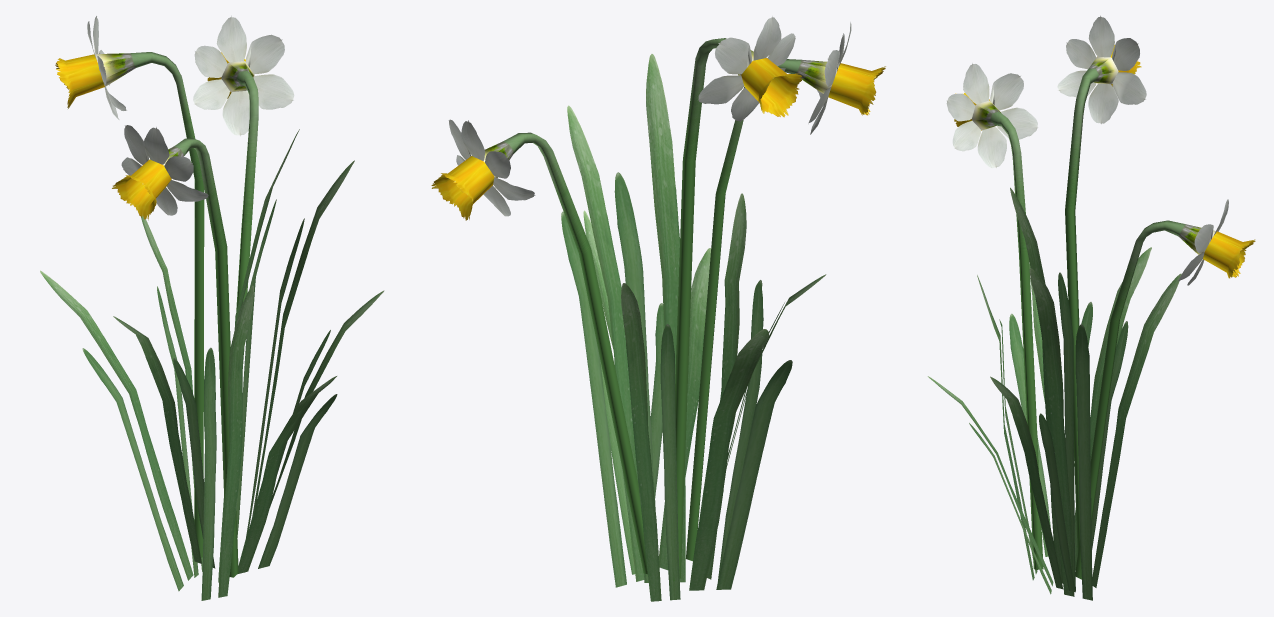
The model's file is Narcissus2B.fbx.
3 renders of one model, left to right at view 1: azimuth 30°, elevation 25°; view 2: azimuth 150°, elevation 25°; view 3: azimuth 270°, elevation 25°, orthographic. The views are drawn at different scales.
Parts seen in each view (by area): view 1: Narcissus2B_LOD0; view 2: Narcissus2B_LOD0; view 3: Narcissus2B_LOD0.
Part boxes in pixels (x1,y1,x2,y2): Narcissus2B_LOD0: (40, 15, 384, 600); Narcissus2B_LOD0: (431, 16, 885, 601); Narcissus2B_LOD0: (927, 15, 1255, 600).
Size of the model in its own units: 36.44 by 62.87 by 37.03.
